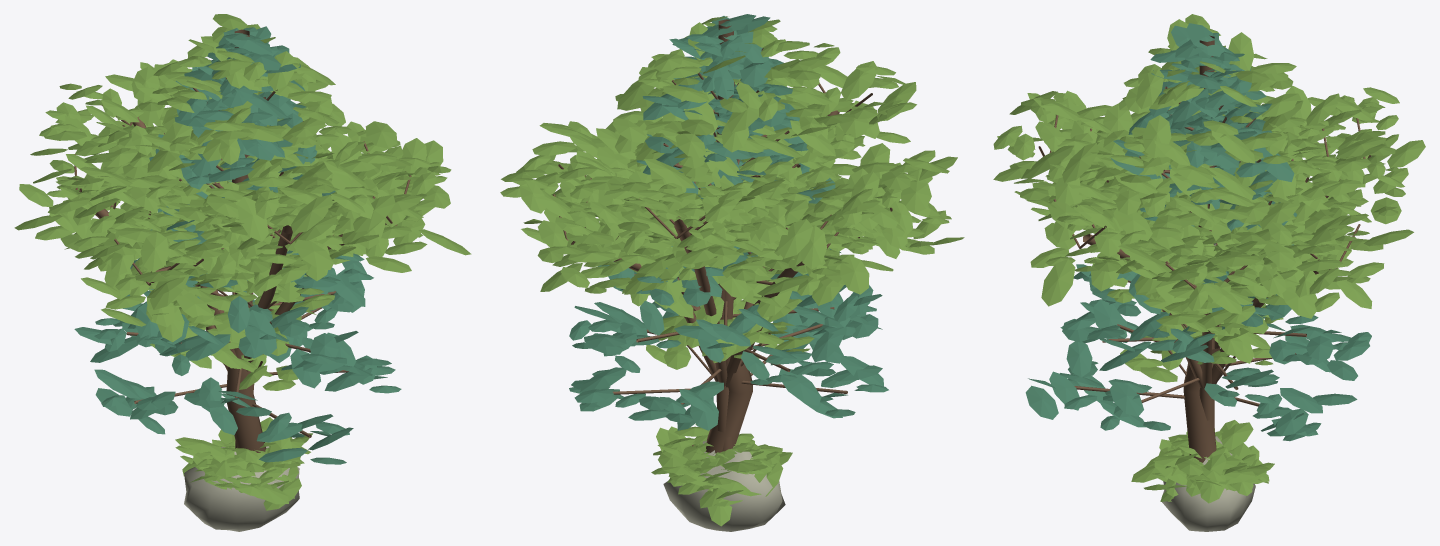
File: anime-nature.glb
The picture shows the model from 3 angles, left to right: view 1: azimuth 30°, elevation 25°; view 2: azimuth 150°, elevation 25°; view 3: azimuth 270°, elevation 25°; orthographic projection. The views are drawn at different scales.
Visible parts, largest first — view 1: oak_Leaves, pine_Leaves, birch_Leaves, bush_Leaves, rock_Rock, oak_Bark, pine_Bark; view 2: oak_Leaves, pine_Leaves, birch_Leaves, bush_Leaves, oak_Bark, rock_Rock, pine_Bark, birch_Bark; view 3: oak_Leaves, pine_Leaves, birch_Leaves, bush_Leaves, oak_Bark, rock_Rock, pine_Bark, birch_Bark.
Part boxes in pixels (x1,y1,x2,y2): oak_Leaves: (14, 59, 471, 342); pine_Leaves: (74, 26, 401, 464); birch_Leaves: (124, 14, 341, 390); bush_Leaves: (175, 417, 312, 510); rock_Rock: (184, 446, 299, 531); oak_Bark: (74, 105, 411, 452); pine_Bark: (126, 29, 348, 448); oak_Leaves: (500, 42, 964, 305); pine_Leaves: (569, 14, 888, 430); birch_Leaves: (612, 16, 839, 369); bush_Leaves: (651, 424, 792, 526); oak_Bark: (553, 83, 892, 453); rock_Rock: (663, 441, 785, 531); pine_Bark: (613, 19, 847, 451); birch_Bark: (663, 48, 798, 407); oak_Leaves: (993, 85, 1425, 333); pine_Leaves: (1025, 23, 1371, 441); birch_Leaves: (1103, 14, 1330, 382); bush_Leaves: (1131, 420, 1274, 503); oak_Bark: (1038, 115, 1371, 462); rock_Rock: (1162, 436, 1255, 531); pine_Bark: (1074, 35, 1306, 431); birch_Bark: (1139, 86, 1267, 428).
Bounding box in the file's own units: 5.05 × 6.35 × 5.06.
